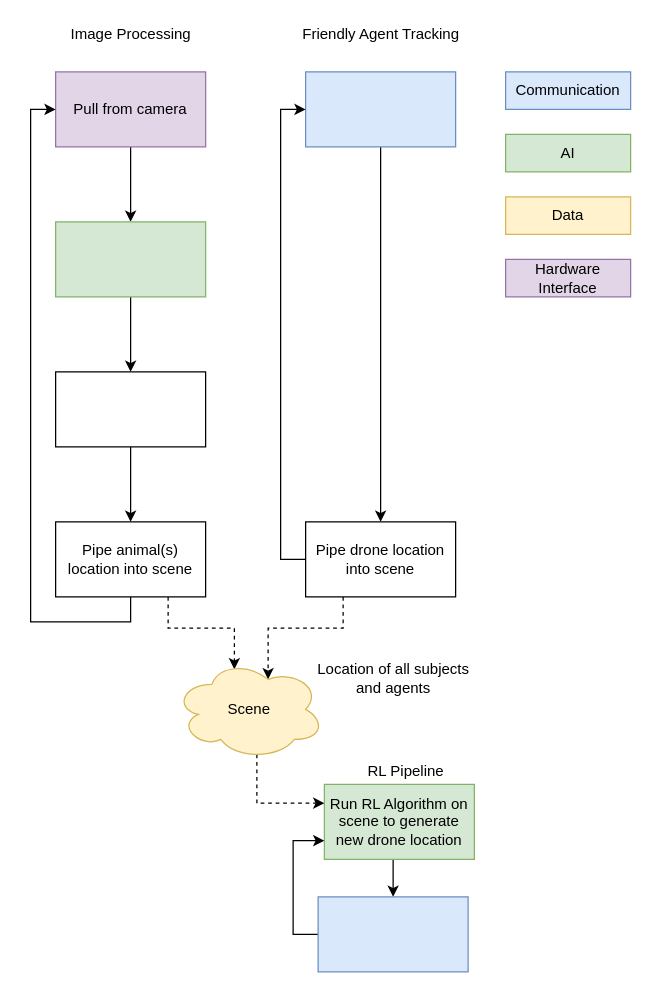
Image size: 653x994. Some labels were removed from this diagram. The box of each missing label's shape, as (x1, y1, x2, y2) in pixels:
Command the drone to the target location: (317, 896, 468, 972)
GeoLocate detected animals: (54, 371, 206, 447)
Run neural network on RGB images to find animals: (54, 221, 206, 297)
Subscribe to drone locations: (304, 71, 456, 147)
